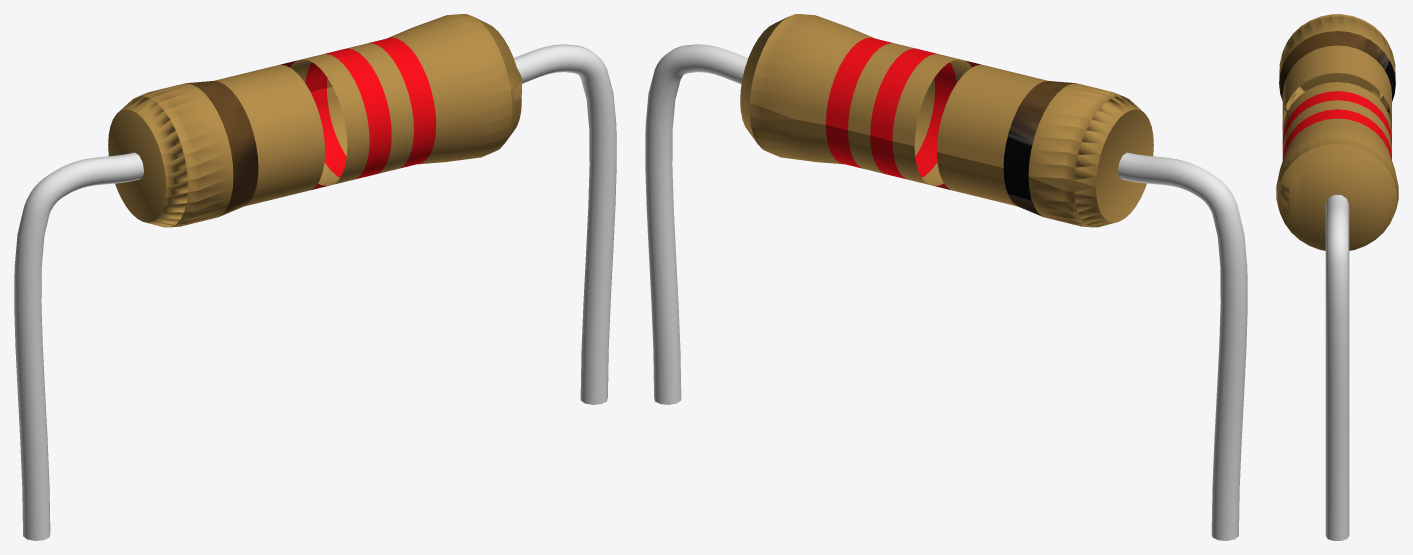
File: resistor-220-ohm.glb
3 views of the same model, side by side, from view 1: azimuth 30°, elevation 25°; view 2: azimuth 150°, elevation 25°; view 3: azimuth 270°, elevation 25° (orthographic). The views are drawn at different scales.
Parts seen in each view (by area): view 1: resistor-220-ohm, lead_a_geometry, lead_b_geometry; view 2: resistor-220-ohm, lead_a_geometry, lead_b_geometry; view 3: resistor-220-ohm, lead_b_geometry.
Boxes of the visible parts, bbox=[...] form: resistor-220-ohm: bbox=[108, 14, 522, 227]; lead_a_geometry: bbox=[14, 152, 143, 540]; lead_b_geometry: bbox=[513, 44, 616, 404]; resistor-220-ohm: bbox=[740, 14, 1153, 227]; lead_a_geometry: bbox=[1118, 152, 1247, 540]; lead_b_geometry: bbox=[645, 44, 748, 404]; resistor-220-ohm: bbox=[1276, 14, 1398, 250]; lead_b_geometry: bbox=[1325, 195, 1349, 540].
Bounding box in the file's own units: 0.0109 × 0.00715 × 0.0023.
Materials: 5 (1 with a texture image).
